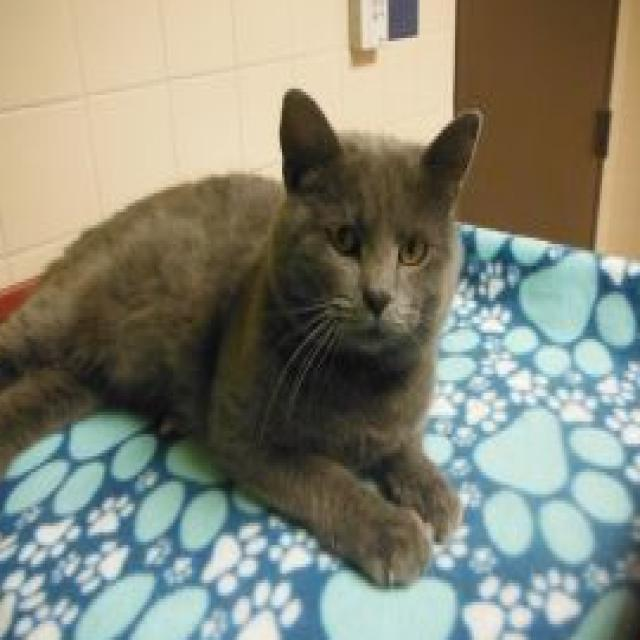British Shorthair: (0, 82, 486, 596)
